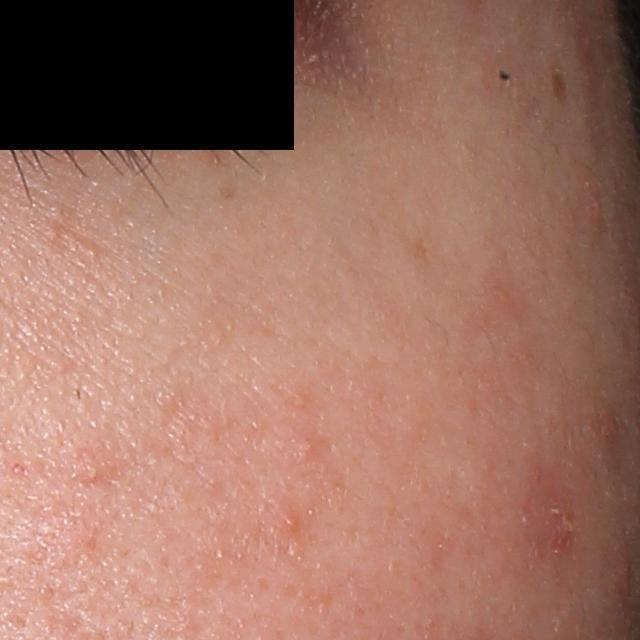melasma: (202, 126, 230, 174), (550, 65, 570, 104)
nevus: (495, 63, 515, 82)
